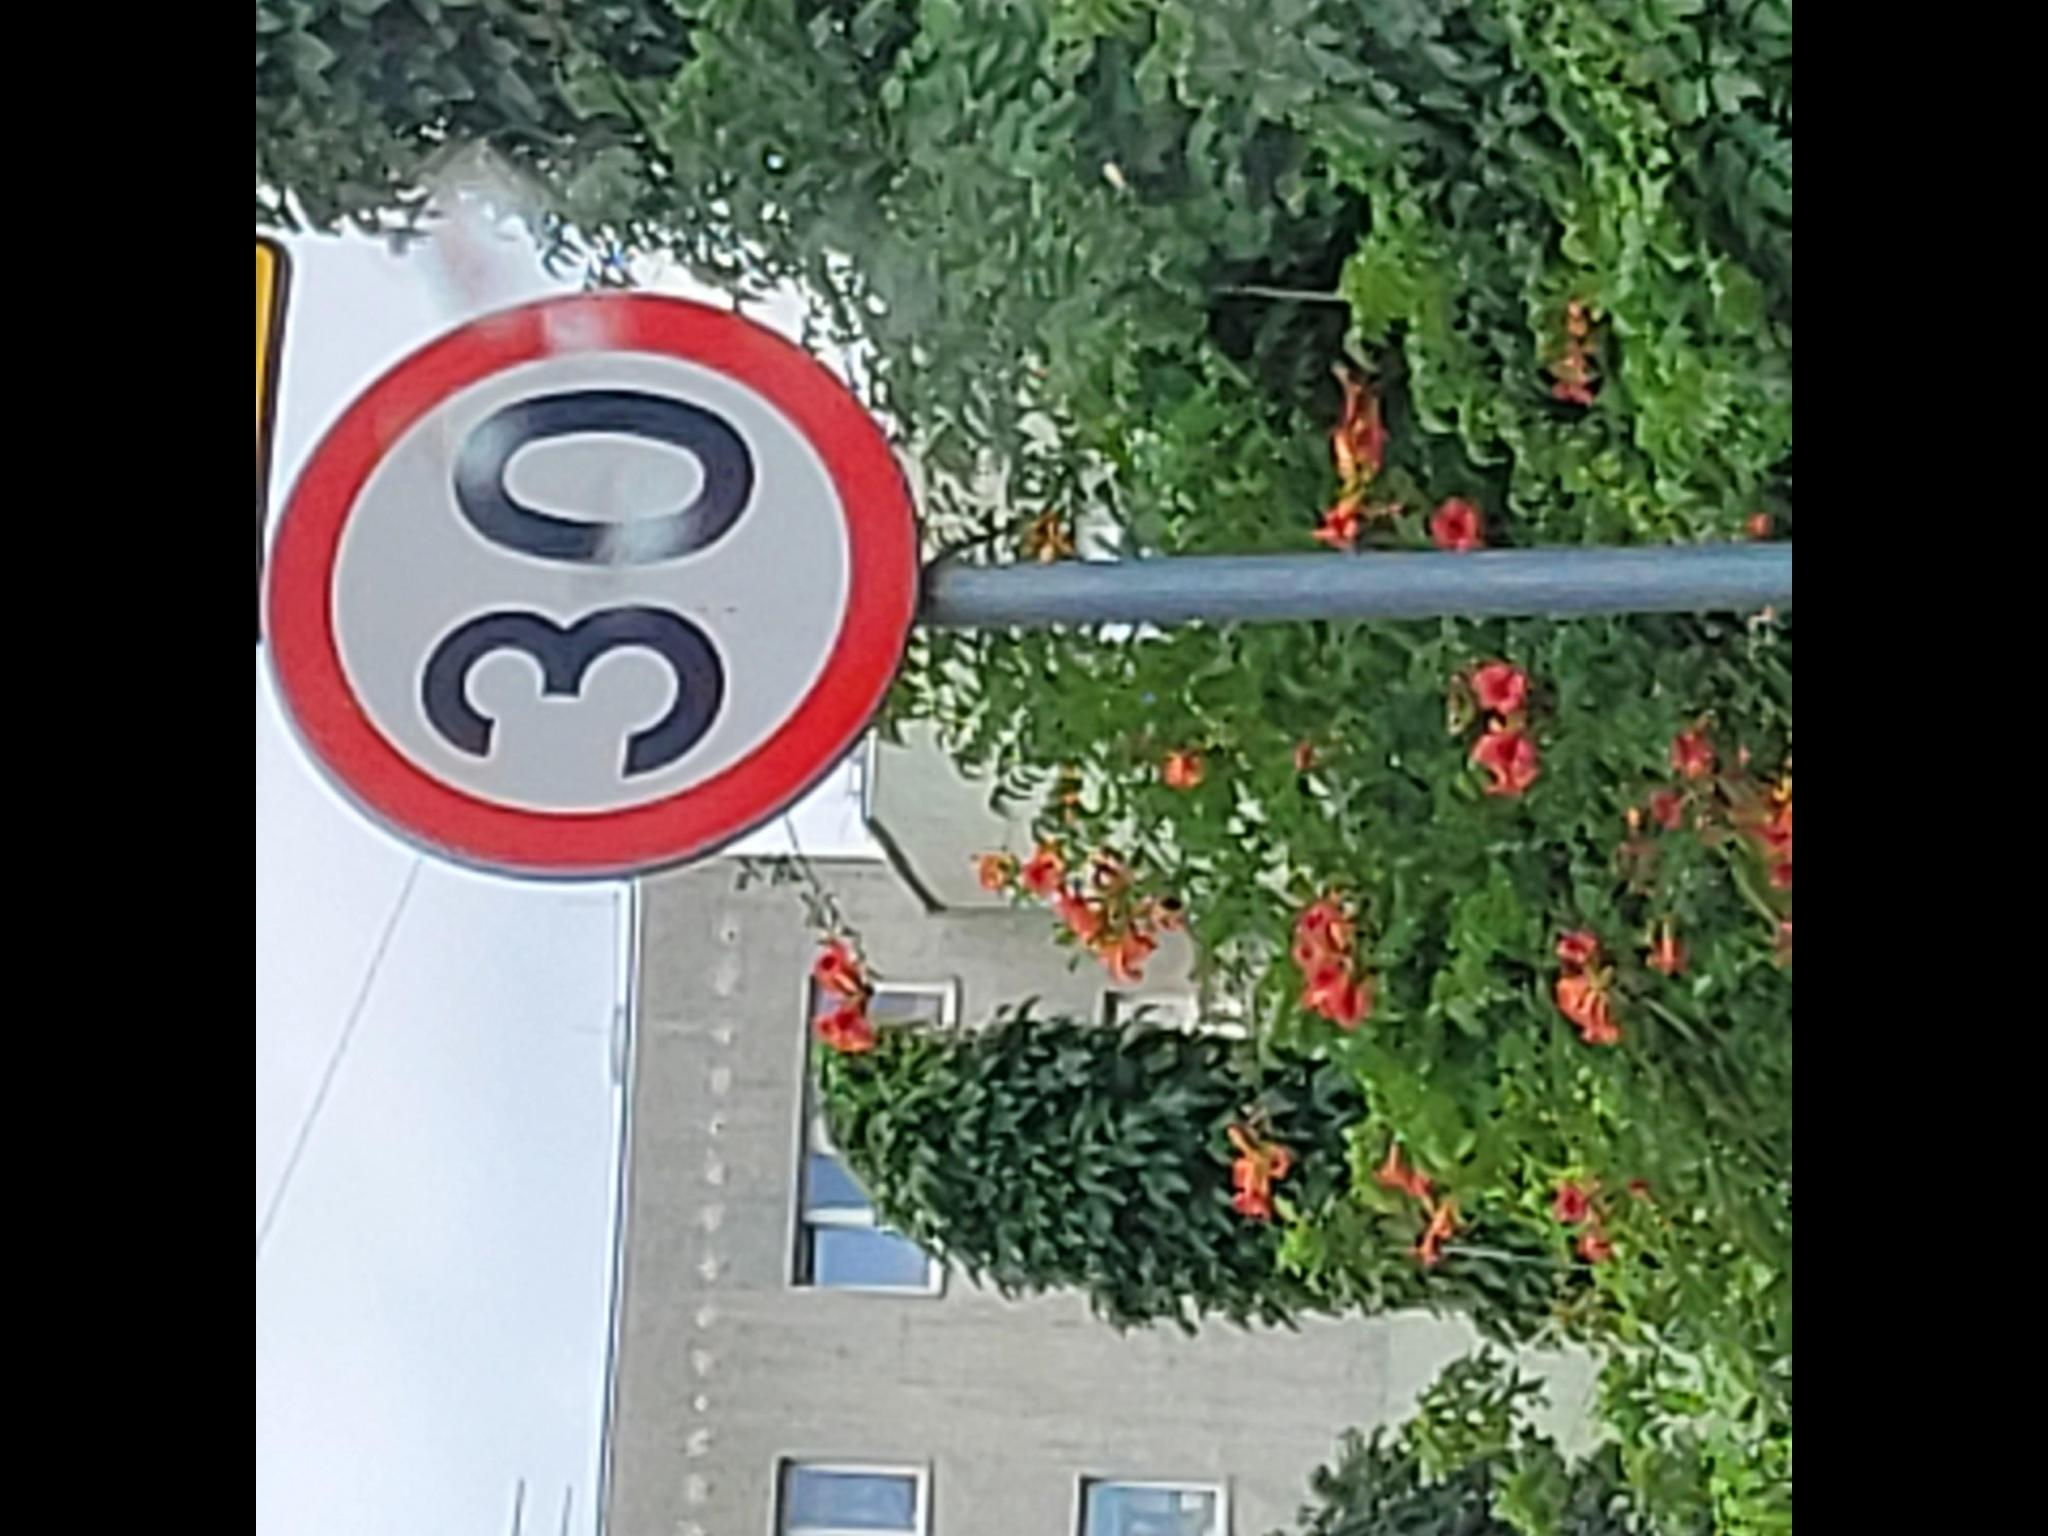prohibitory: (264, 289, 924, 886)
